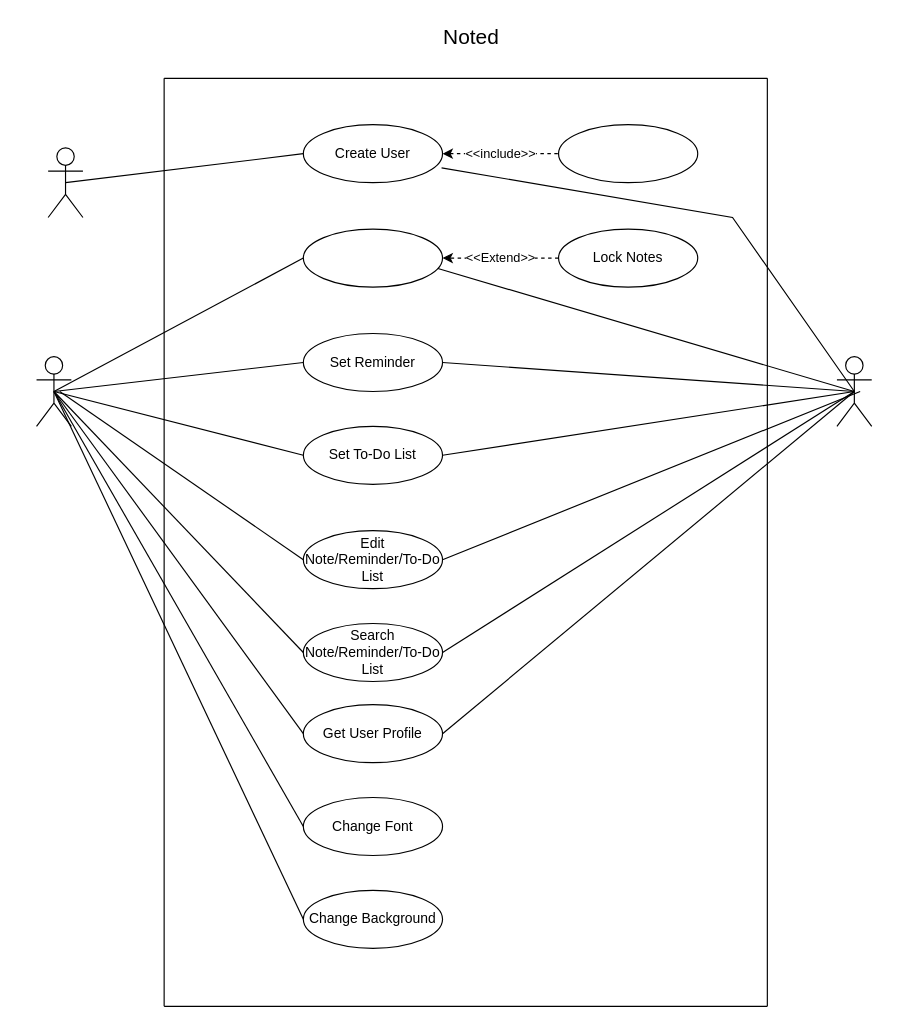
This 904x1028 diagram has some shape labels left out. Here are the shapes that lost their labels. From the top down, the centre of each, then its label:
At point (627, 153): "Verify User Info".
At point (65, 182): "Unregistered User".
At point (372, 257): "Set Note".
At point (53, 391): "Registered User".
At point (854, 391): "Database".
